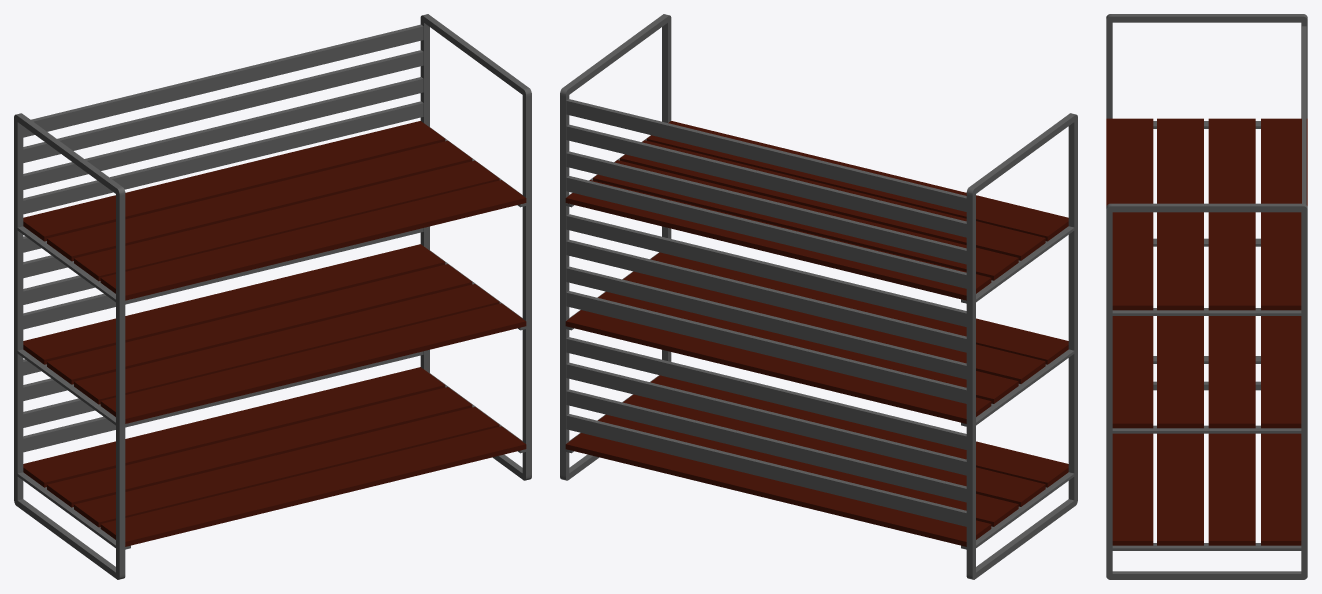
File: StorageShelf.FBX
3 renders of one model, left to right at view 1: azimuth 30°, elevation 25°; view 2: azimuth 150°, elevation 25°; view 3: azimuth 270°, elevation 25°, orthographic. The views are drawn at different scales.
Parts seen in each view (by area): view 1: Shelf, Box010, Box006, Box003, Box009, Box008, Box004, Box013, Box012, Box007, Box002, Box011 (+11 smaller); view 2: Shelf_Leg_Right, Box013, Box009, Box025, Box017, Box015, Box014, Box023, Box020, Box022, Box018, Box016 (+15 smaller); view 3: Box003, Shelf_Leg_Left, Box002, Shelf, Box004, Box012, Box008, Box011, Box007, Box010, Box006, Box013 (+6 smaller).
Part boxes in pixels (x1,y1,x2,y2): Shelf: (100, 180, 526, 300); Box010: (100, 426, 526, 546); Box006: (100, 303, 526, 423); Box003: (47, 140, 472, 261); Box009: (23, 244, 445, 364); Box008: (47, 264, 472, 384); Box004: (23, 121, 445, 241); Box013: (23, 367, 445, 487); Box012: (47, 387, 472, 507); Box007: (74, 284, 499, 404); Box002: (74, 160, 499, 281); Box011: (74, 407, 499, 527); Shelf_Leg_Right: (966, 113, 1077, 579); Box013: (565, 433, 991, 546); Box009: (565, 310, 991, 423); Box025: (566, 414, 966, 526); Box017: (566, 176, 966, 288); Box015: (566, 124, 966, 237); Box014: (566, 99, 966, 211); Box023: (566, 362, 966, 475); Box020: (566, 266, 966, 379); Box022: (566, 337, 966, 449); Box018: (566, 214, 966, 326); Box016: (566, 151, 966, 264); Box003: (1208, 118, 1255, 310); Shelf_Leg_Left: (1106, 203, 1307, 579); Box002: (1157, 118, 1203, 310); Shelf: (1106, 118, 1153, 310); Box004: (1261, 118, 1307, 310); Box012: (1208, 433, 1255, 545); Box008: (1208, 316, 1255, 428); Box011: (1157, 433, 1203, 545); Box007: (1157, 316, 1203, 428); Box010: (1112, 433, 1153, 545); Box006: (1112, 316, 1153, 428); Box013: (1261, 433, 1301, 545).
Size of the model in its own units: 141 by 127 by 62.28.
